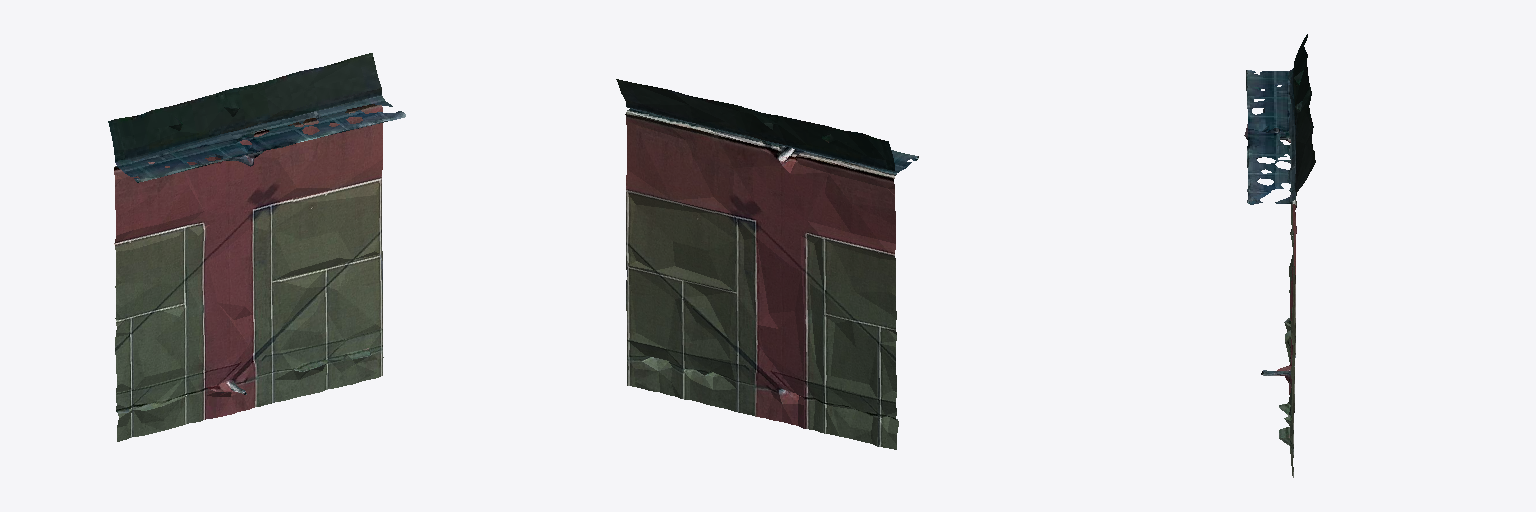
The picture shows the model from 3 angles: view 1: azimuth 30°, elevation 25°; view 2: azimuth 150°, elevation 25°; view 3: azimuth 270°, elevation 25°; orthographic projection.
Visible parts, largest first — view 1: obj_0; view 2: obj_0; view 3: obj_0.
Boxes of the visible parts, <box> form: obj_0: <box>108,53,405,441</box>; obj_0: <box>616,79,918,449</box>; obj_0: <box>1244,34,1315,477</box>.
Bounding box in the file's own units: 20.08 × 22.53 × 4.62.
Materials: 1 (1 with a texture image).